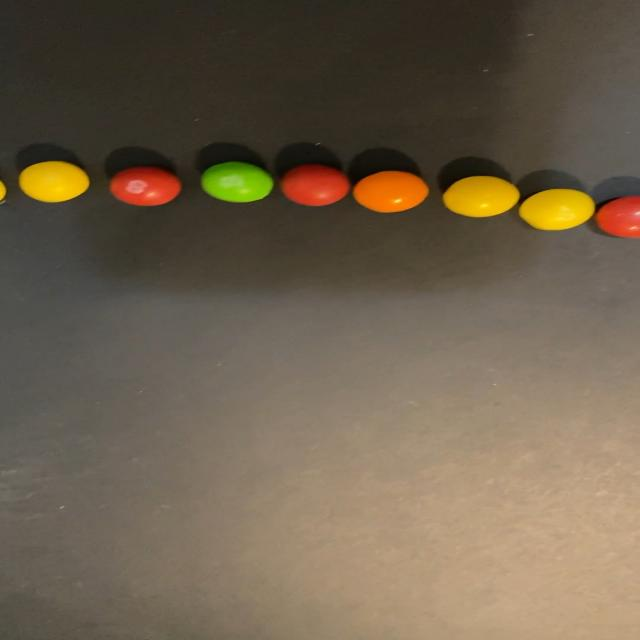smartie: (443, 175, 519, 217), (520, 189, 596, 230), (354, 170, 428, 212), (200, 161, 273, 202), (17, 160, 88, 202), (281, 164, 350, 206), (109, 166, 180, 205), (596, 196, 640, 237)
